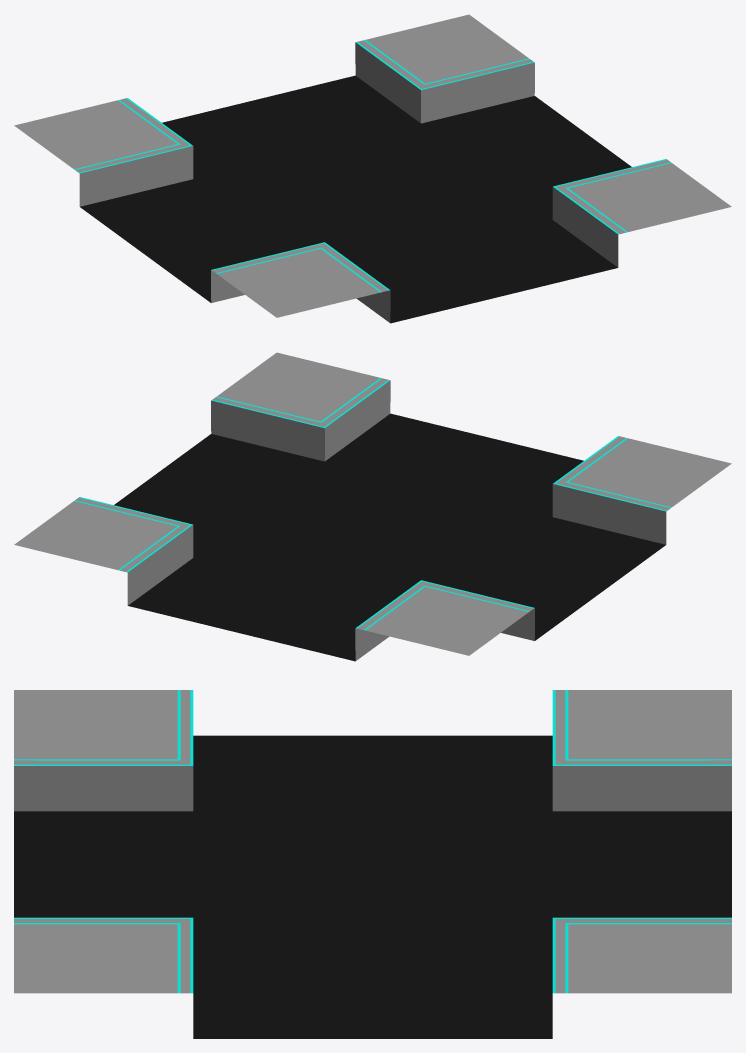
Rendered from pressure_plate_base_heavy_cross_01.FBX.
3 renders of one model, top to bottom at view 1: azimuth 30°, elevation 25°; view 2: azimuth 150°, elevation 25°; view 3: azimuth 270°, elevation 25°, orthographic. The views are drawn at different scales.
Visible parts, largest first — view 1: pressure_plate_base_heavy_cross_01; view 2: pressure_plate_base_heavy_cross_01; view 3: pressure_plate_base_heavy_cross_01.
Part boxes in pixels (x1,y1,x2,y2): pressure_plate_base_heavy_cross_01: (14, 14, 731, 323); pressure_plate_base_heavy_cross_01: (14, 352, 731, 661); pressure_plate_base_heavy_cross_01: (14, 690, 731, 1038).
Size of the model in its own units: 400 by 27.96 by 400.
